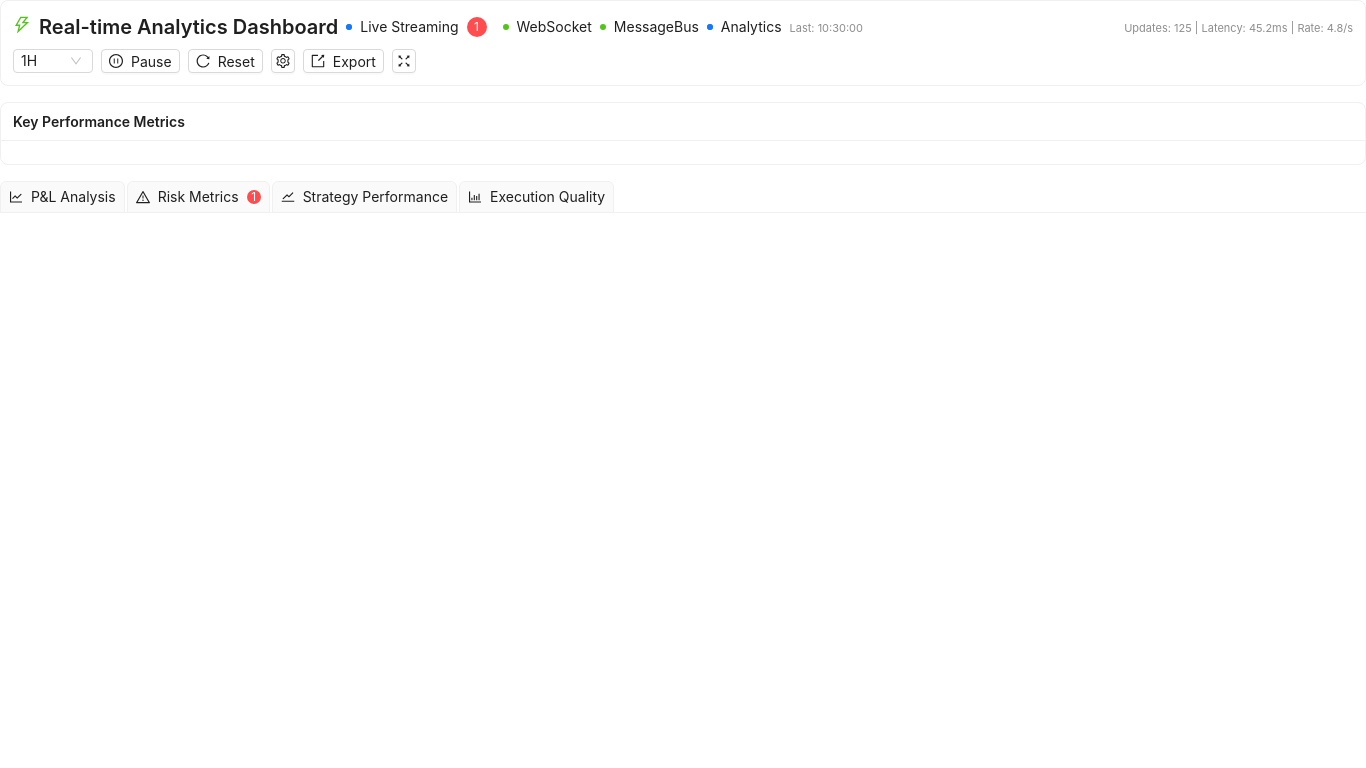
RealTimeAnalyticsDashboard › Risk Alerts › shows alert details in risk tab
The image size is (1366, 768).
Click the text "Risk Metrics": (198, 197) [158,186,239,208]
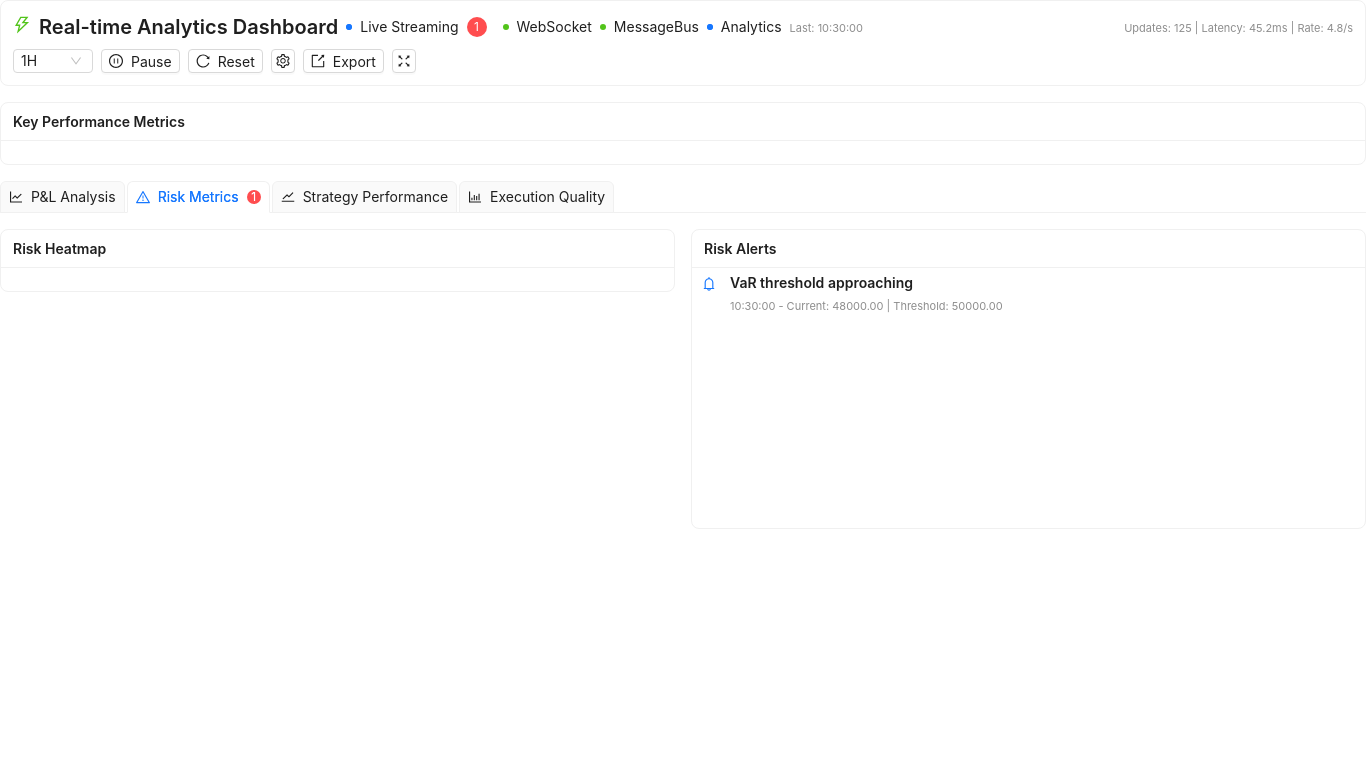
Now the text "VaR threshold approaching" is shown, box [730,274,913,291]
